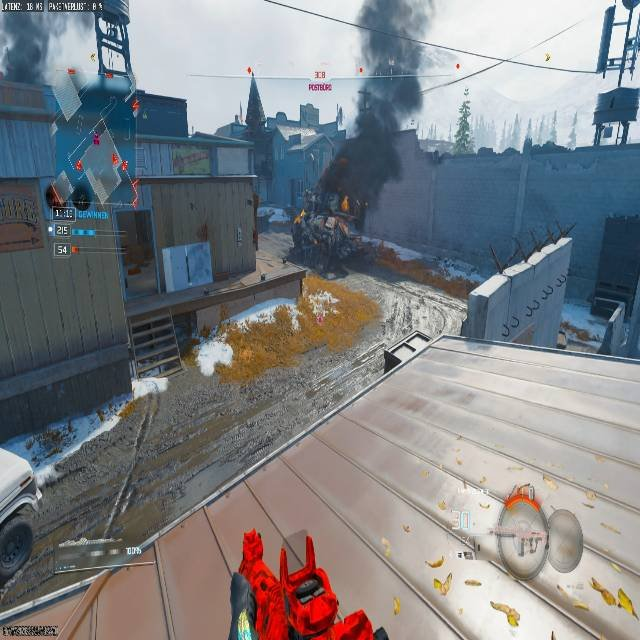player: (230, 528, 393, 639), (288, 213, 355, 279)
